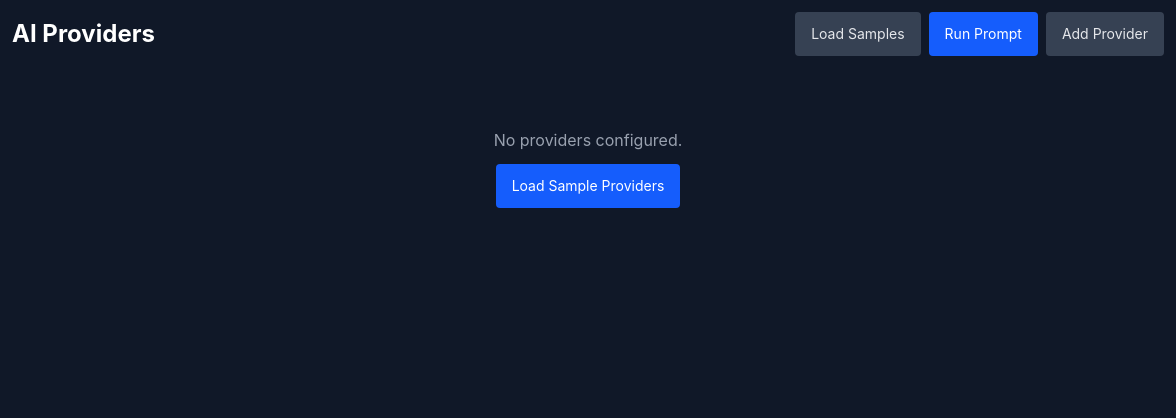
Test: AI Providers keeps the newest sample read when an older one resolves last
Click the button "Load Samples".
click(858, 34)  # box [795, 12, 921, 56]
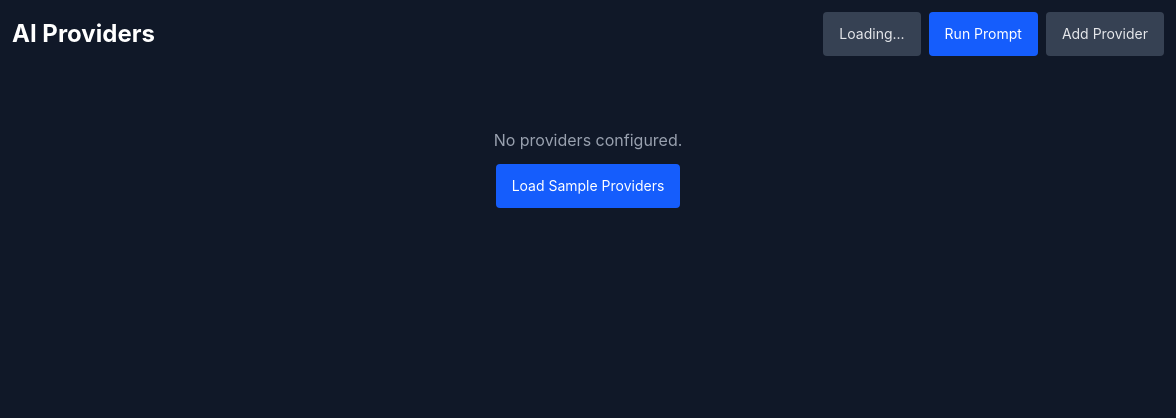
Click the button named "Load Samples".
click(872, 34)  # box [823, 12, 921, 56]
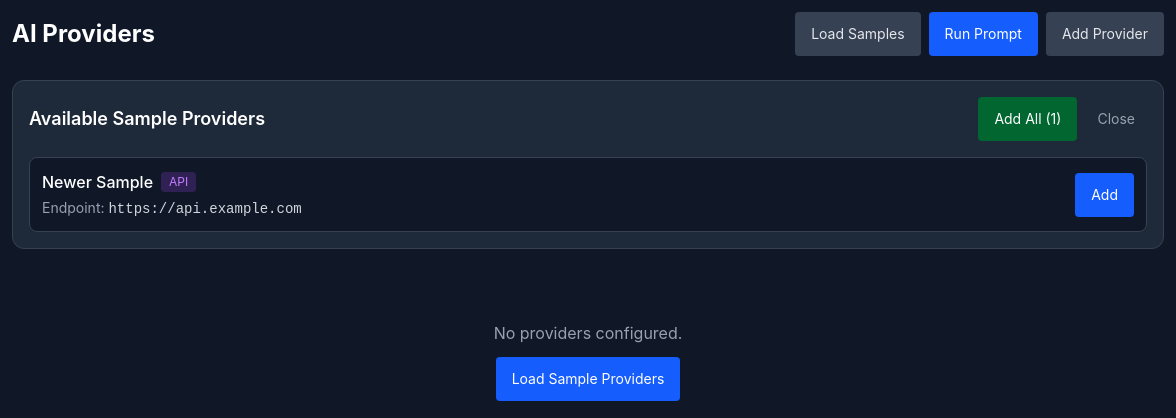
Now the text "Newer Sample" is shown, box [42, 170, 153, 194]
